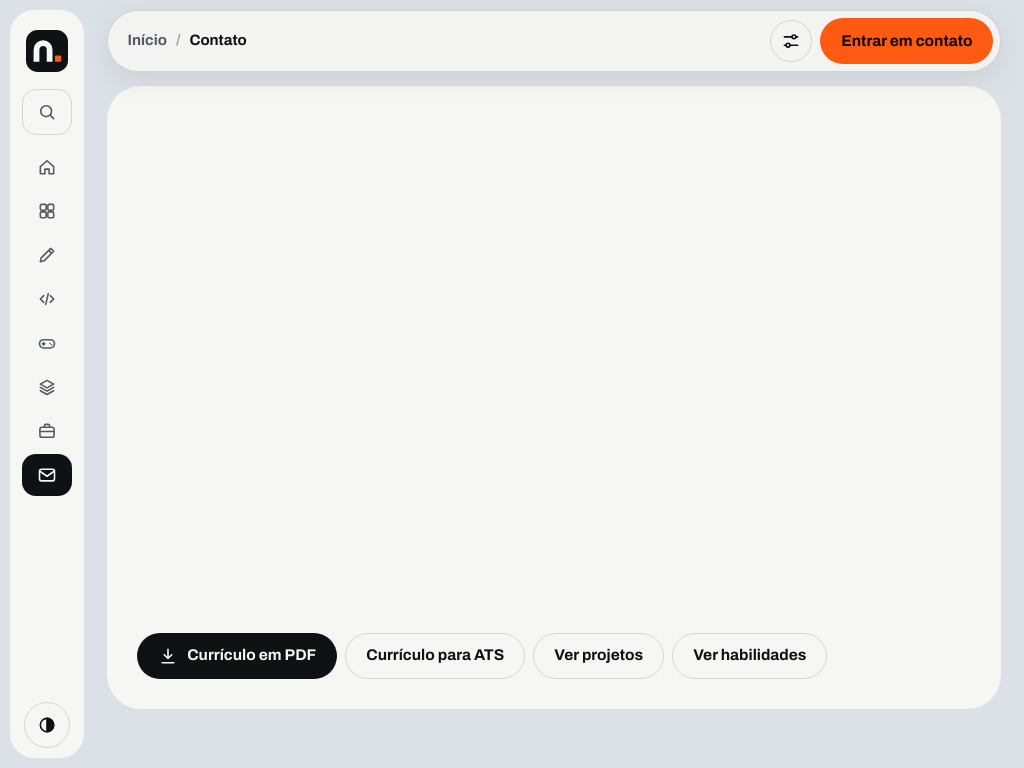
painel Aparência › abre pelo botão, troca tema e cor e persiste
This screenshot has width=1024, height=768.
Later steps or results of the test are not shown.
Click the button named "Aparência do site". click: coordinates (791, 41)
box: left=770, top=20, right=812, bottom=62
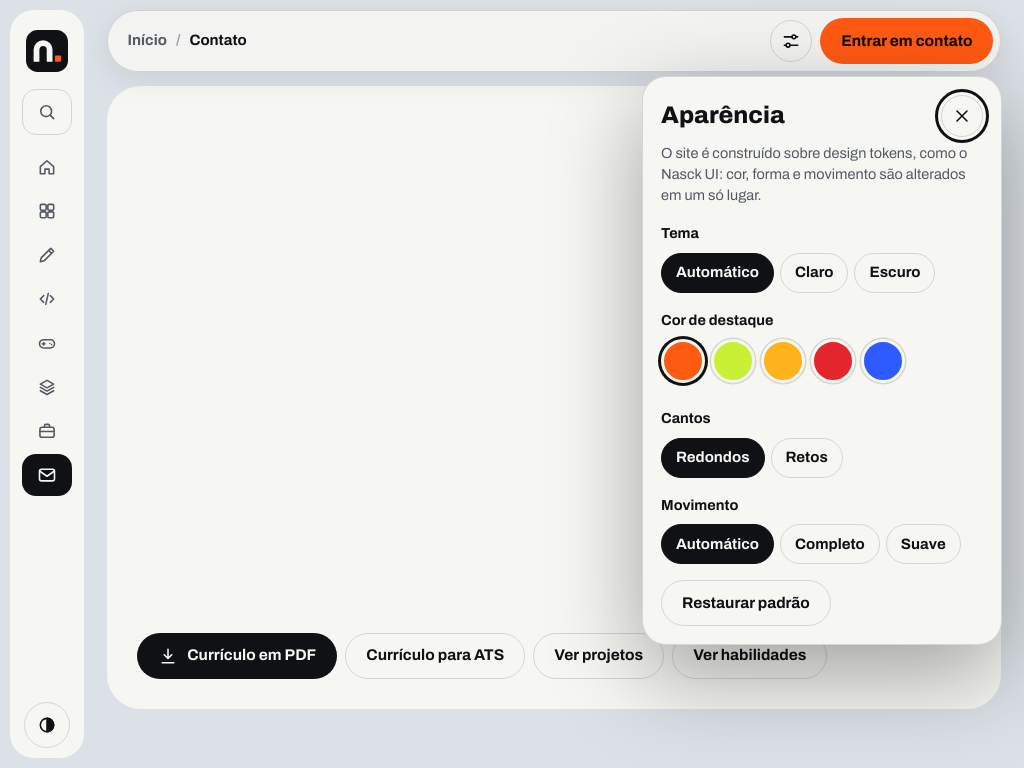
Click the 1st radio button labelled "Escuro". click: coordinates (895, 272)
box: left=854, top=252, right=936, bottom=292
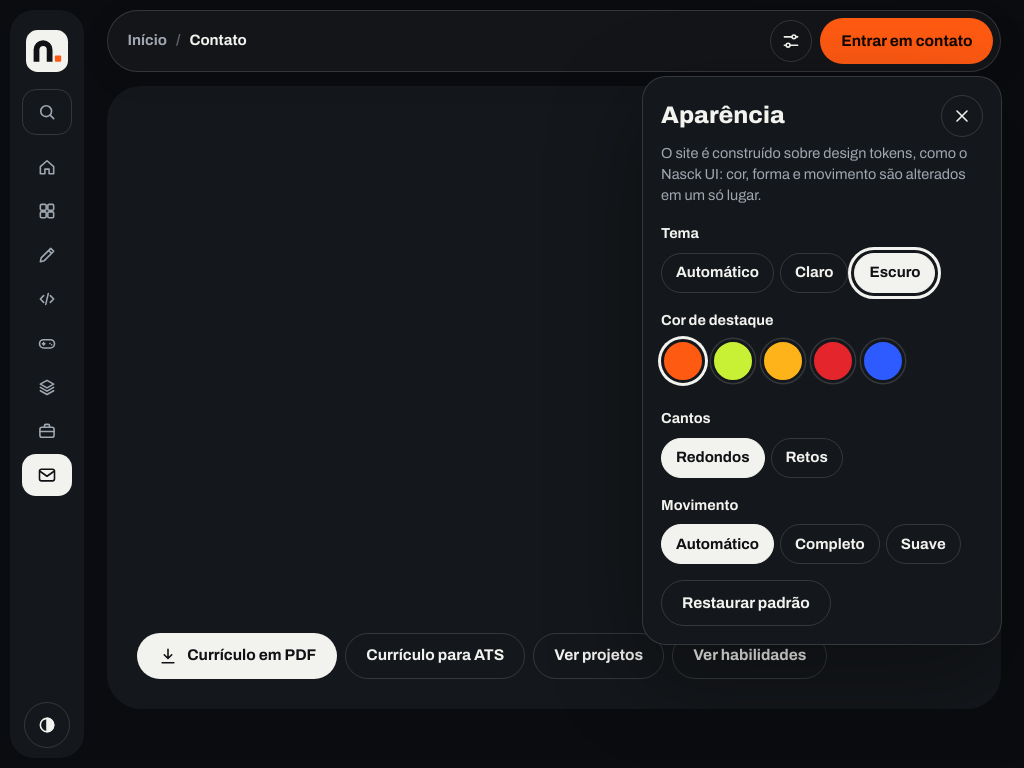
Click the radio button named "Lima". click: coordinates (733, 365)
box: left=711, top=339, right=755, bottom=391
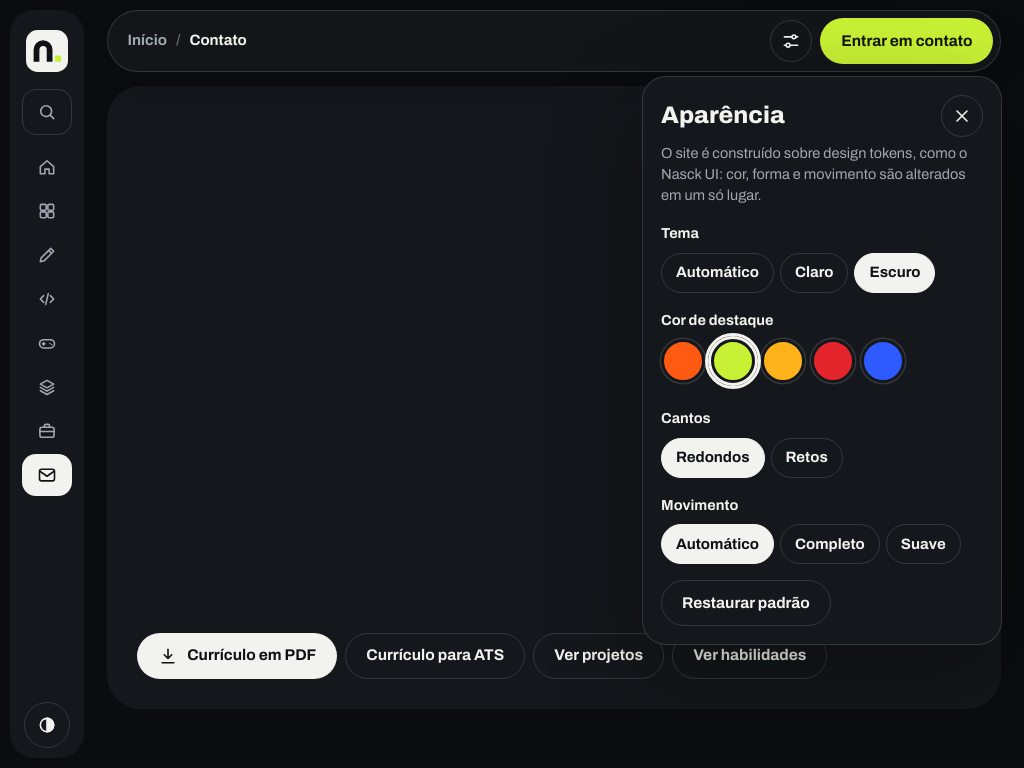
Click the 6th radio button labelled "Suave". click: coordinates (923, 544)
box: left=886, top=524, right=961, bottom=564
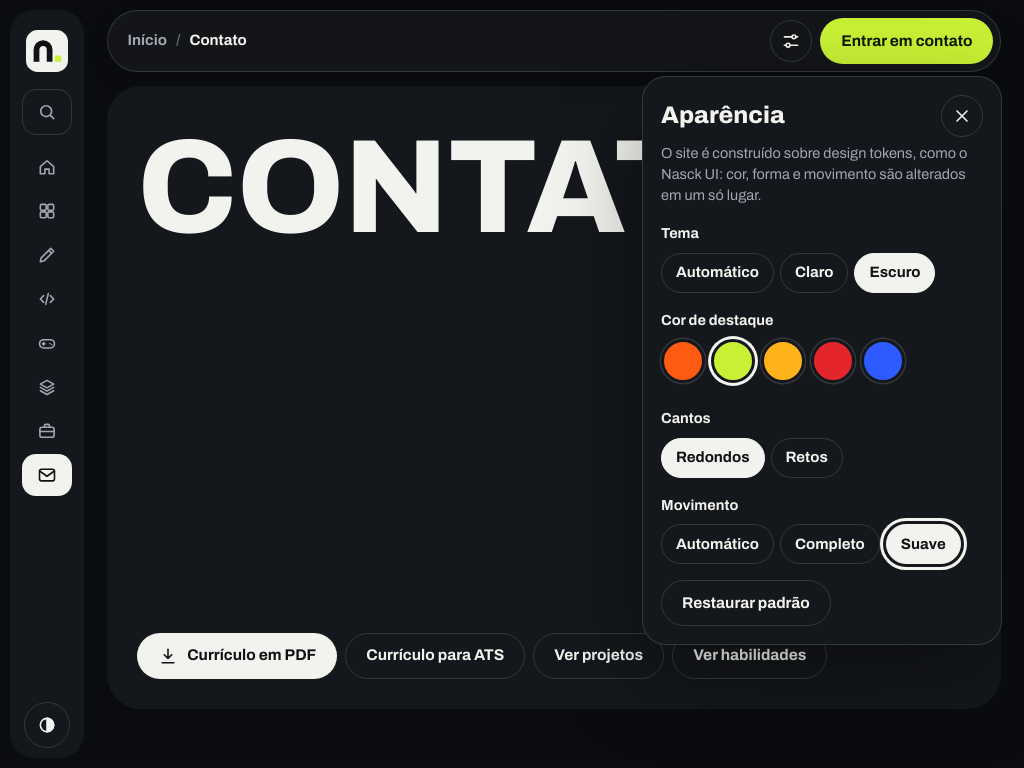
Expected: the 1st radio button labelled "Escuro" is checked, left=854, top=252, right=936, bottom=292
Click the button "Restaurar padrão". click: coordinates (746, 603)
box: left=661, top=580, right=831, bottom=626
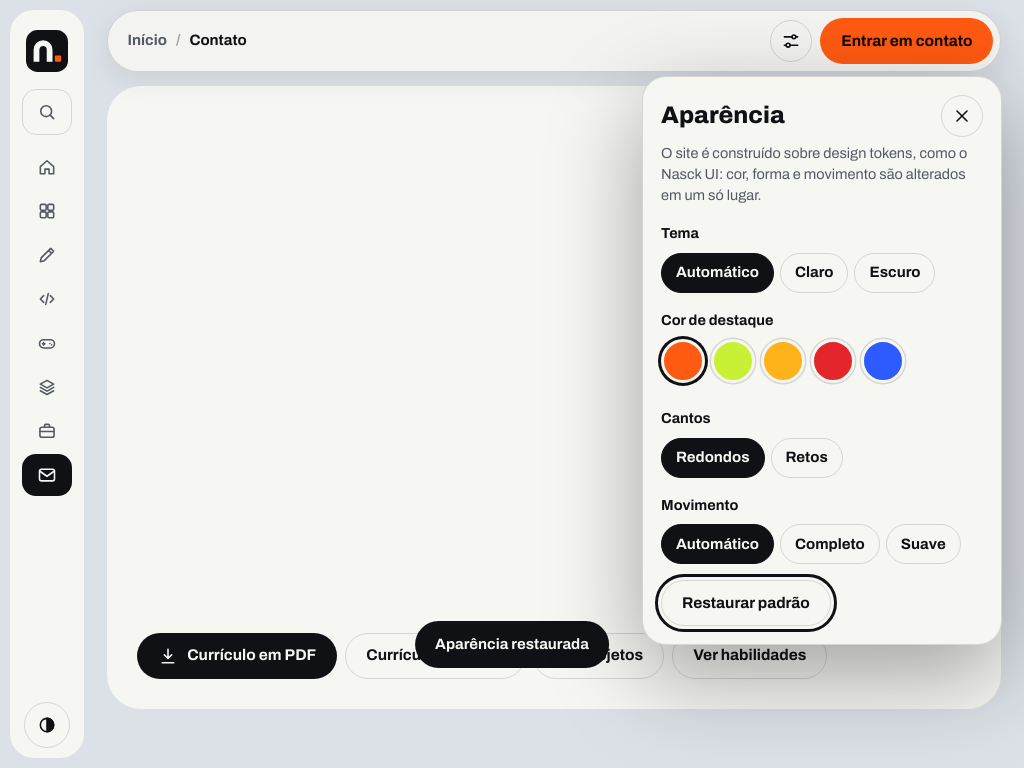
Expected: the radio button labelled "Automático" next to "Claro" is checked, left=661, top=252, right=774, bottom=292
